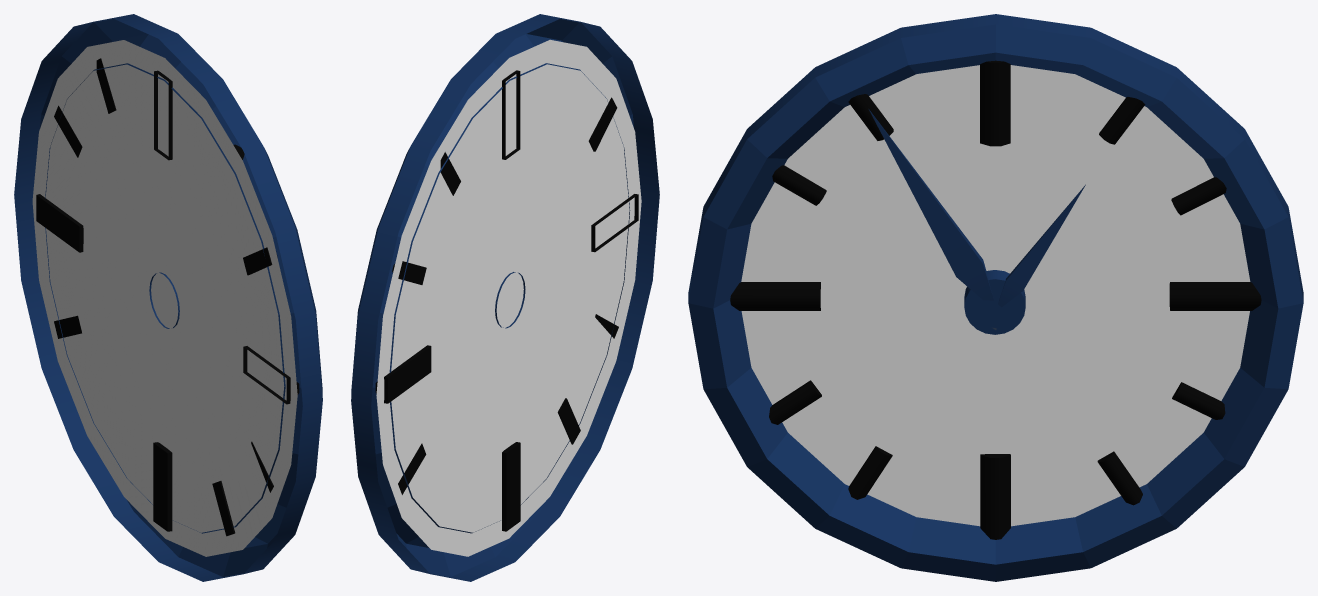
File: clock model.fbx
3 renders of one model, left to right at view 1: azimuth 30°, elevation 25°; view 2: azimuth 150°, elevation 25°; view 3: azimuth 270°, elevation 25°, orthographic. The views are drawn at different scales.
Visible parts, largest first — view 1: pCube18; view 2: pCube18; view 3: pCube18.
Boxes of the visible parts, <box> form: pCube18: <box>14,14,322,581</box>; pCube18: <box>351,14,659,581</box>; pCube18: <box>688,14,1303,581</box>.
Bounding box in the file's own units: 2 × 31.8 × 31.8.
Materials: 1 (1 with a texture image).
